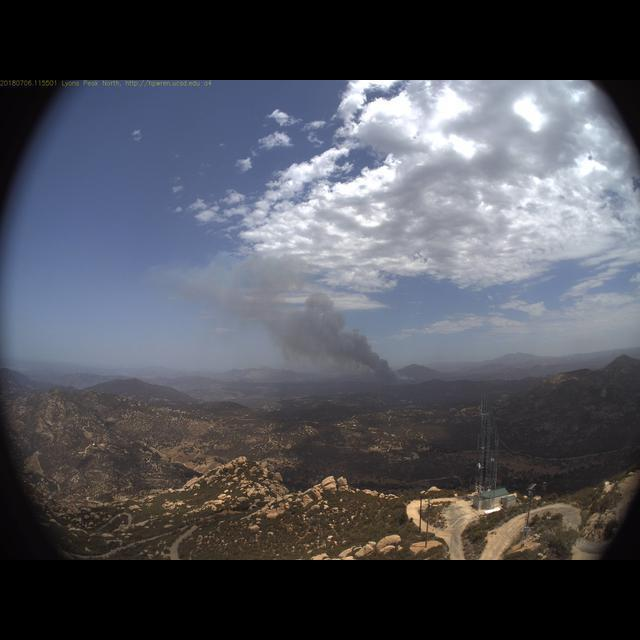Smoke: (179, 247, 404, 390)
